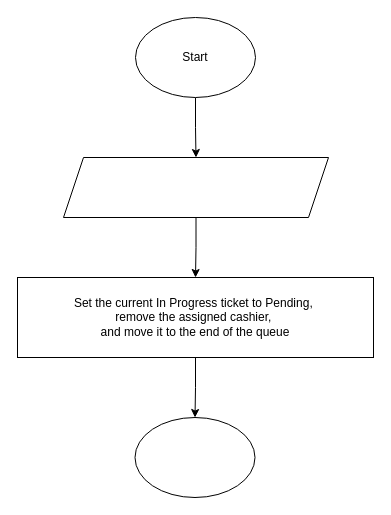
Image size: 391x515. Some labels were removed from this diagram. The box of each missing label's shape, as (x1, y1, x2, y2) in pixels:
Click Skip Button: (62, 156, 328, 218)
End: (134, 416, 255, 498)
